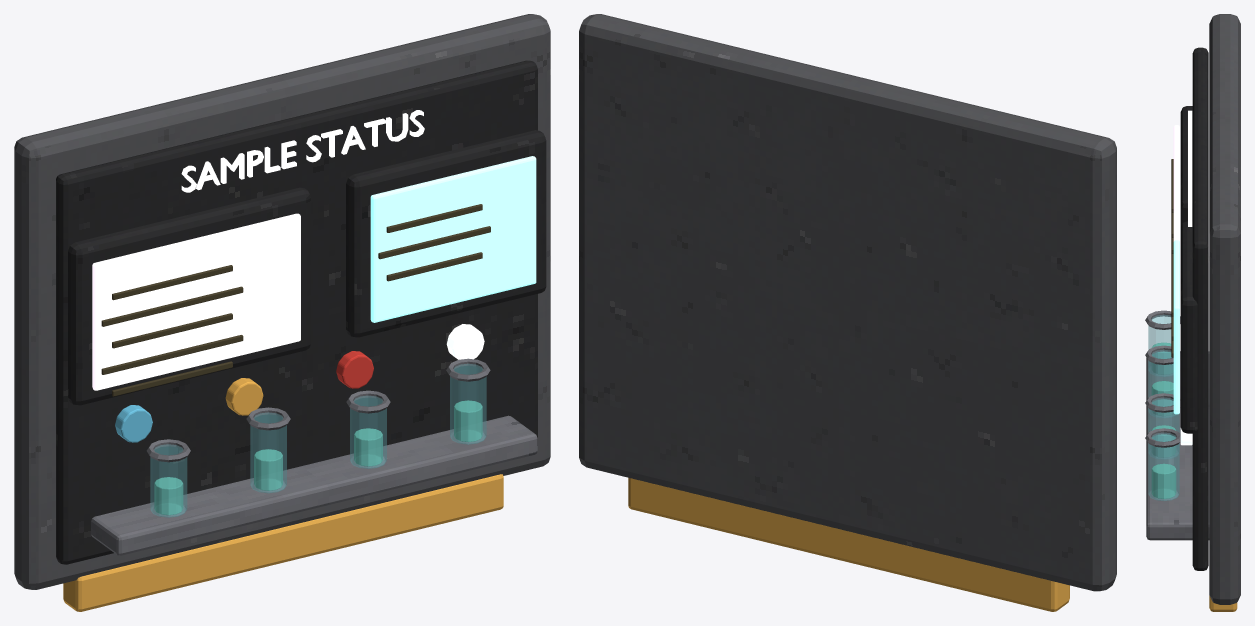
The model's file is decor_chem_analysis_panel.glb.
3 views of the same model, side by side, from view 1: azimuth 30°, elevation 25°; view 2: azimuth 150°, elevation 25°; view 3: azimuth 270°, elevation 25° (orthographic). The views are drawn at different scales.
Visible parts, largest first — view 1: DEC_ChemAnalysisPanel__Panel_Face, DEC_ChemAnalysisPanel__Panel_Back, DEC_ChemAnalysisPanel__Primary_Display_Glow, DEC_ChemAnalysisPanel__Secondary_Display_Glow, DEC_ChemAnalysisPanel__Sample_Shelf, DEC_ChemAnalysisPanel__Cable_Channel, DEC_ChemAnalysisPanel__Primary_Display_Bezel, DEC_ChemAnalysisPanel__Secondary_Display_Bezel, DEC_ChemAnalysisPanel__Panel_Title, DEC_ChemAnalysisPanel__Sample_Vial_4_Glass, DEC_ChemAnalysisPanel__Sample_Vial_2_Glass, DEC_ChemAnalysisPanel__Sample_Vial_1_Glass (+15 smaller); view 2: DEC_ChemAnalysisPanel__Panel_Back, DEC_ChemAnalysisPanel__Cable_Channel; view 3: DEC_ChemAnalysisPanel__Panel_Back, DEC_ChemAnalysisPanel__Panel_Face, DEC_ChemAnalysisPanel__Sample_Shelf, DEC_ChemAnalysisPanel__Secondary_Display_Bezel, DEC_ChemAnalysisPanel__Sample_Vial_4_Glass, DEC_ChemAnalysisPanel__Secondary_Display_Glow, DEC_ChemAnalysisPanel__Primary_Display_Bezel, DEC_ChemAnalysisPanel__Sample_Vial_2_Glass, DEC_ChemAnalysisPanel__Sample_Vial_3_Glass, DEC_ChemAnalysisPanel__Sample_Vial_4_Liquid, DEC_ChemAnalysisPanel__Primary_Display_Glow, DEC_ChemAnalysisPanel__Sample_Vial_1_Glass (+11 smaller).
Part boxes in pixels (x1,y1,x2,y2): DEC_ChemAnalysisPanel__Panel_Face: (56, 60, 537, 564); DEC_ChemAnalysisPanel__Panel_Back: (14, 14, 550, 589); DEC_ChemAnalysisPanel__Primary_Display_Glow: (92, 213, 300, 390); DEC_ChemAnalysisPanel__Secondary_Display_Glow: (370, 156, 536, 322); DEC_ChemAnalysisPanel__Sample_Shelf: (91, 415, 537, 555); DEC_ChemAnalysisPanel__Cable_Channel: (63, 474, 503, 611); DEC_ChemAnalysisPanel__Primary_Display_Bezel: (68, 187, 310, 405); DEC_ChemAnalysisPanel__Secondary_Display_Bezel: (346, 130, 546, 337); DEC_ChemAnalysisPanel__Panel_Title: (181, 110, 424, 192); DEC_ChemAnalysisPanel__Sample_Vial_4_Glass: (450, 364, 486, 444); DEC_ChemAnalysisPanel__Sample_Vial_2_Glass: (250, 412, 286, 493); DEC_ChemAnalysisPanel__Sample_Vial_1_Glass: (150, 444, 187, 517); DEC_ChemAnalysisPanel__Panel_Back: (579, 14, 1116, 591); DEC_ChemAnalysisPanel__Cable_Channel: (628, 477, 1069, 611); DEC_ChemAnalysisPanel__Panel_Back: (1209, 14, 1240, 604); DEC_ChemAnalysisPanel__Panel_Face: (1192, 47, 1208, 570); DEC_ChemAnalysisPanel__Sample_Shelf: (1146, 351, 1209, 540); DEC_ChemAnalysisPanel__Secondary_Display_Bezel: (1180, 221, 1197, 433); DEC_ChemAnalysisPanel__Sample_Vial_4_Glass: (1148, 433, 1179, 500); DEC_ChemAnalysisPanel__Secondary_Display_Glow: (1173, 240, 1179, 414); DEC_ChemAnalysisPanel__Primary_Display_Bezel: (1180, 106, 1192, 226); DEC_ChemAnalysisPanel__Sample_Vial_2_Glass: (1148, 350, 1176, 417); DEC_ChemAnalysisPanel__Sample_Vial_3_Glass: (1148, 398, 1179, 459); DEC_ChemAnalysisPanel__Sample_Vial_4_Liquid: (1151, 463, 1176, 498); DEC_ChemAnalysisPanel__Primary_Display_Glow: (1173, 125, 1179, 241); DEC_ChemAnalysisPanel__Sample_Vial_1_Glass: (1148, 315, 1173, 376).
Bounding box in the file's own units: 1.48 × 1.28 × 0.274.
13 materials, 3 textured.
